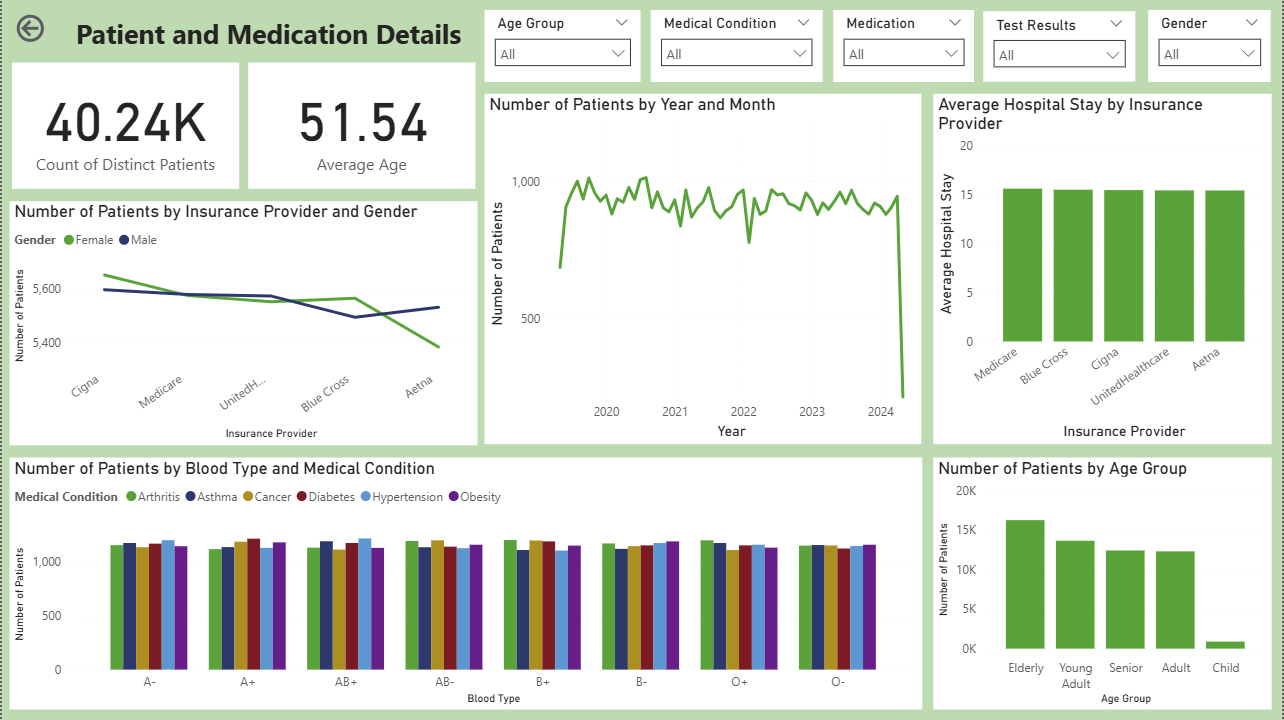

This screenshot's page, from the dashboard's own definition file:
{"tool":"powerbi","page":{"name":"Page 2","canvas":[1280,720],"ordinal":1},"visuals":[{"type":"card","fields":{"Values":["Avg(Healthcare_data_processed.Age)"]},"box":[246.2,62.5,227.5,126.2],"z":0},{"type":"textbox","box":[59.2,9.9,415.5,52.1],"z":1000},{"type":"card","fields":{"Values":["Count(Healthcare_data_processed.Name)"]},"box":[10,62.5,227.5,126.2],"z":2000},{"type":"columnChart","fields":{"Category":["Healthcare_data_processed.Age_Group"],"Y":["CountNonNull(Healthcare_data_processed.Name)"]},"box":[931,457.7,338,252.1],"z":3000},{"type":"lineChart","fields":{"Category":["Healthcare_data_processed.Insurance Provider"],"Y":["CountNonNull(Healthcare_data_processed.Name)"],"Series":["Healthcare_data_processed.Gender"]},"box":[7,201.4,467.6,243.7],"z":4000},{"type":"columnChart","fields":{"Category":["Healthcare_data_processed.Insurance Provider"],"Y":["Avg(Healthcare_data_processed.Length_of_stay)"]},"box":[931,94.4,338,350.7],"z":5000},{"type":"lineClusteredColumnComboChart","fields":{"Category":["Healthcare_data_processed.Blood Type"],"Series":["Healthcare_data_processed.Medical Condition"],"Y":["CountNonNull(Healthcare_data_processed.Name)"]},"box":[7,457.7,912.7,252.1],"z":6000},{"type":"lineChart","fields":{"Category":["Healthcare_data_processed.Date of Admission.Variation.Date Hierarchy.Year","Healthcare_data_processed.Date of Admission.Variation.Date Hierarchy.Month"],"Y":["CountNonNull(Healthcare_data_processed.Name)"]},"box":[483.1,94.4,436.6,350.7],"z":7000},{"type":"slicer","fields":{"Values":["Healthcare_data_processed.Age_Group"]},"box":[483.1,9.9,156.3,71.8],"z":8000},{"type":"slicer","fields":{"Values":["Healthcare_data_processed.Medical Condition"]},"box":[649.3,9.9,171.8,71.8],"z":9000},{"type":"actionButton","box":[9.9,9.9,49.3,36.6],"z":10000},{"type":"slicer","fields":{"Values":["Healthcare_data_processed.Medication"]},"box":[831,9.9,140.8,71.8],"z":11000},{"type":"slicer","fields":{"Values":["Healthcare_data_processed.Gender"]},"box":[1146.5,9.9,122.5,71.8],"z":12000},{"type":"slicer","fields":{"Values":["Healthcare_data_processed.Test Results"]},"box":[981.7,11.3,152.1,70.4],"z":13000}]}

Visuals, with their boxes in screenshot pixels (x1, y1, x2, y2), scaled from the page's 1280x720 canvas onto the 1284x720 screenshot:
card - Avg(Healthcare_data_processed.Age): [left=247, top=62, right=475, bottom=189]
textbox: [left=59, top=10, right=476, bottom=62]
card - Count(Healthcare_data_processed.Name): [left=10, top=62, right=238, bottom=189]
columnChart - Healthcare_data_processed.Age_Group x CountNonNull(Healthcare_data_processed.Name): [left=934, top=458, right=1273, bottom=710]
lineChart - Healthcare_data_processed.Insurance Provider x CountNonNull(Healthcare_data_processed.Name): [left=7, top=201, right=476, bottom=445]
columnChart - Healthcare_data_processed.Insurance Provider x Avg(Healthcare_data_processed.Length_of_stay): [left=934, top=94, right=1273, bottom=445]
lineClusteredColumnComboChart - Healthcare_data_processed.Blood Type x Healthcare_data_processed.Medical Condition: [left=7, top=458, right=923, bottom=710]
lineChart - Healthcare_data_processed.Date of Admission.Variation.Date Hierarchy.Year x Healthcare_data_processed.Date of Admission.Variation.Date Hierarchy.Month: [left=485, top=94, right=923, bottom=445]
slicer - Healthcare_data_processed.Age_Group: [left=485, top=10, right=641, bottom=82]
slicer - Healthcare_data_processed.Medical Condition: [left=651, top=10, right=824, bottom=82]
actionButton: [left=10, top=10, right=59, bottom=46]
slicer - Healthcare_data_processed.Medication: [left=834, top=10, right=975, bottom=82]
slicer - Healthcare_data_processed.Gender: [left=1150, top=10, right=1273, bottom=82]
slicer - Healthcare_data_processed.Test Results: [left=985, top=11, right=1137, bottom=82]
